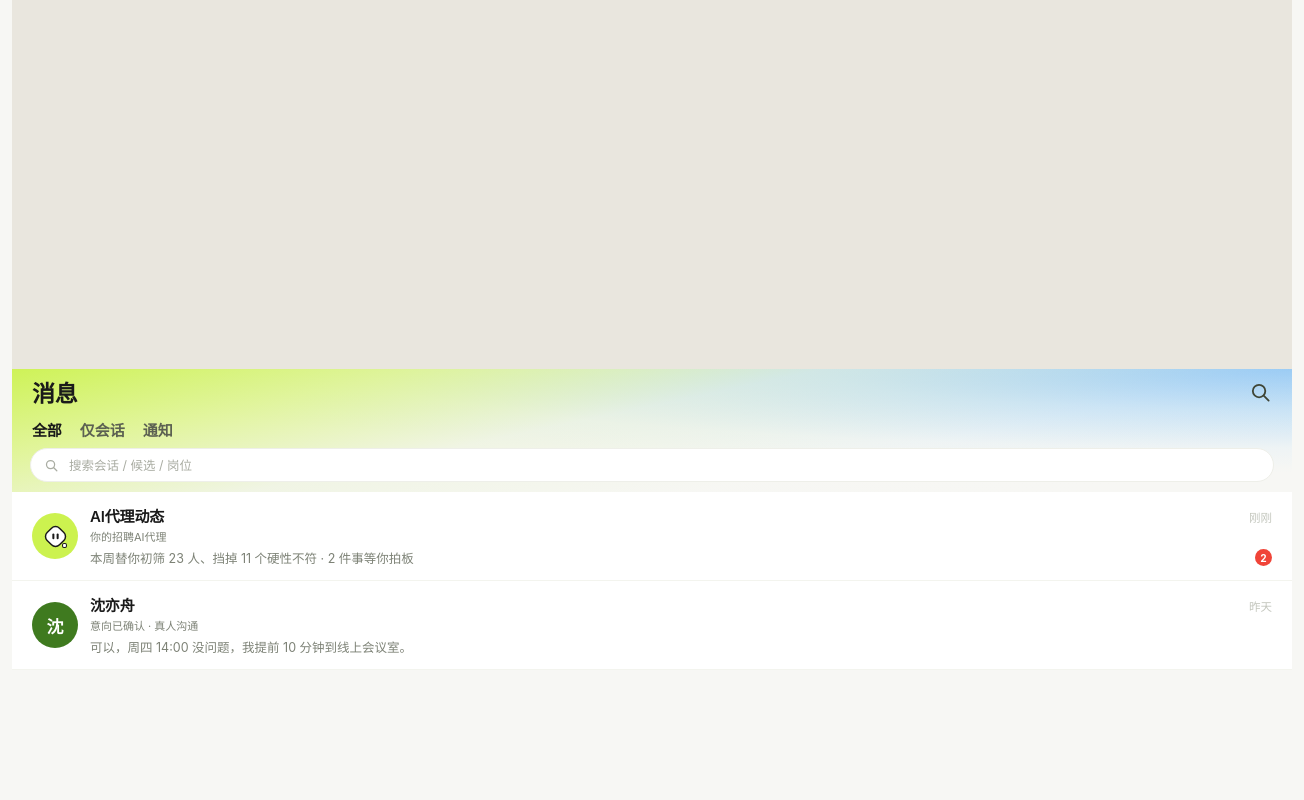
企业消息 · 真人会话行门控 › S3 后真人行走共享展示：未读数字胶囊/共享行 class，点击派发 企业读消息 后导航（P1 Task 4）
(page scrolled)
Check: the text "沈" is shown, box 32,602 -> 78,648
Check: the field with placeholder "搜索会话 / 候选 / 岗位" is shown, box 67,449 -> 1260,481
Click the button "沈 沈亦舟 昨天 意向已确认 · 真人沟通 可以，周四 14:00 没问题，我提前 10 分钟到线上会议室。".
click(55, 625)  # box 12,581 -> 1292,670
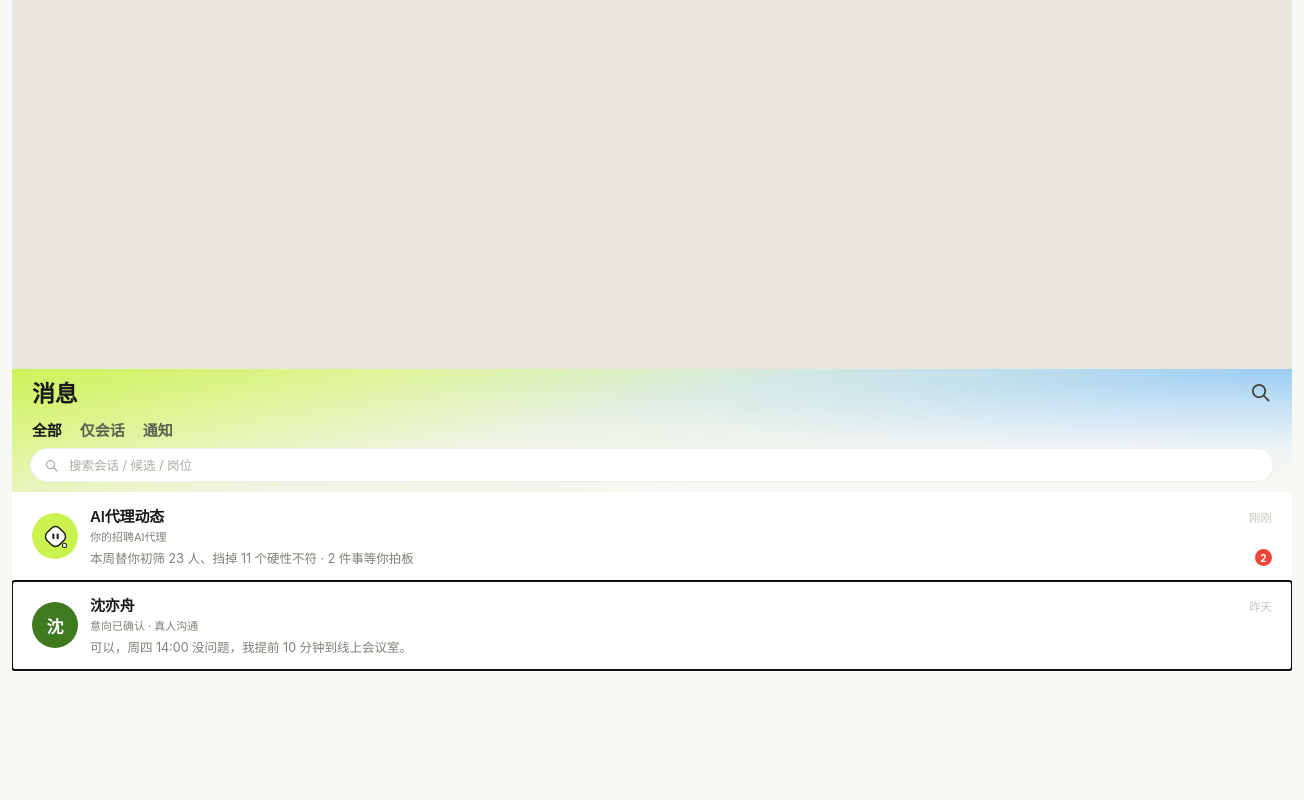
// S3 门控的搜索过滤照旧：真人行命中「沈」
Type "沈" into the field with placeholder "搜索会话 / 候选 / 岗位".
click(664, 465); type("沈")  # box 67,449 -> 1260,481
(page scrolled)
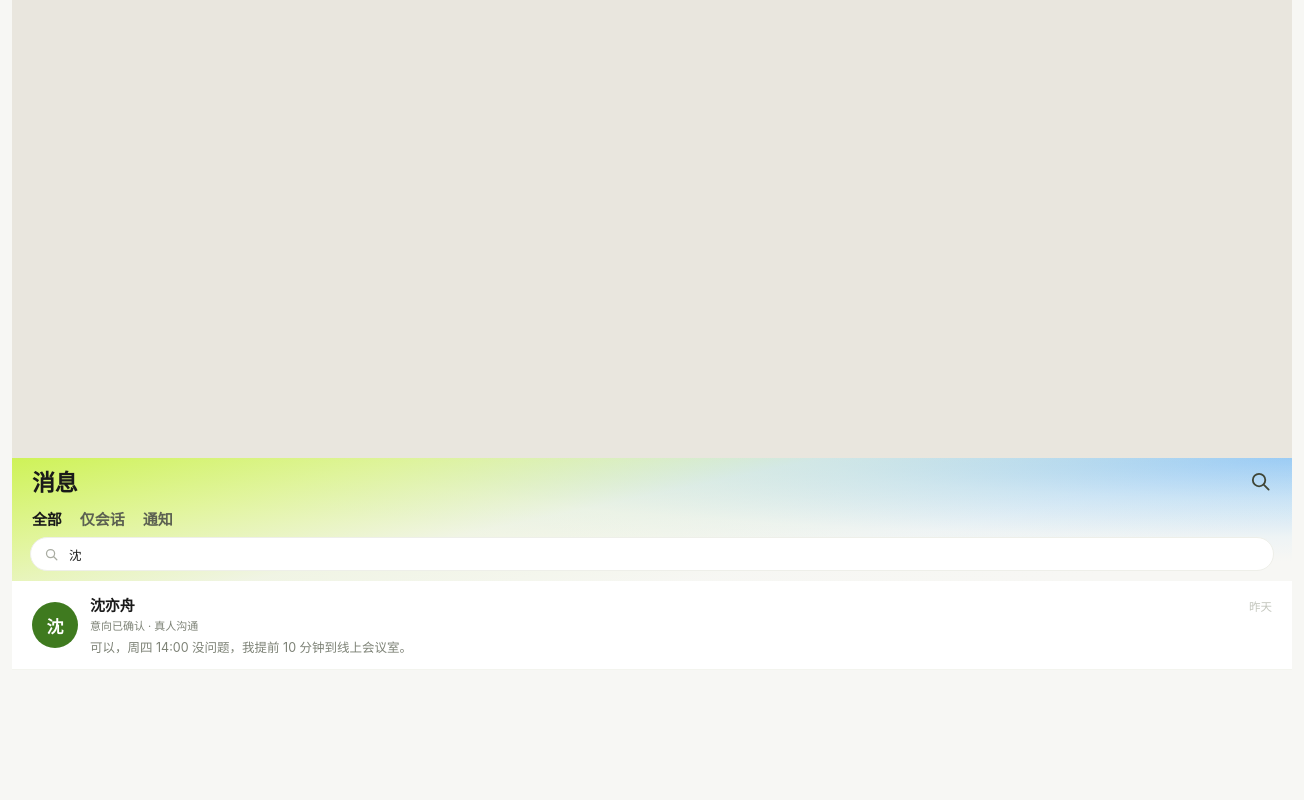
Check: the text "沈亦舟" is shown, box 90,596 -> 135,615
Check: the button "AI代理动态" is gone
